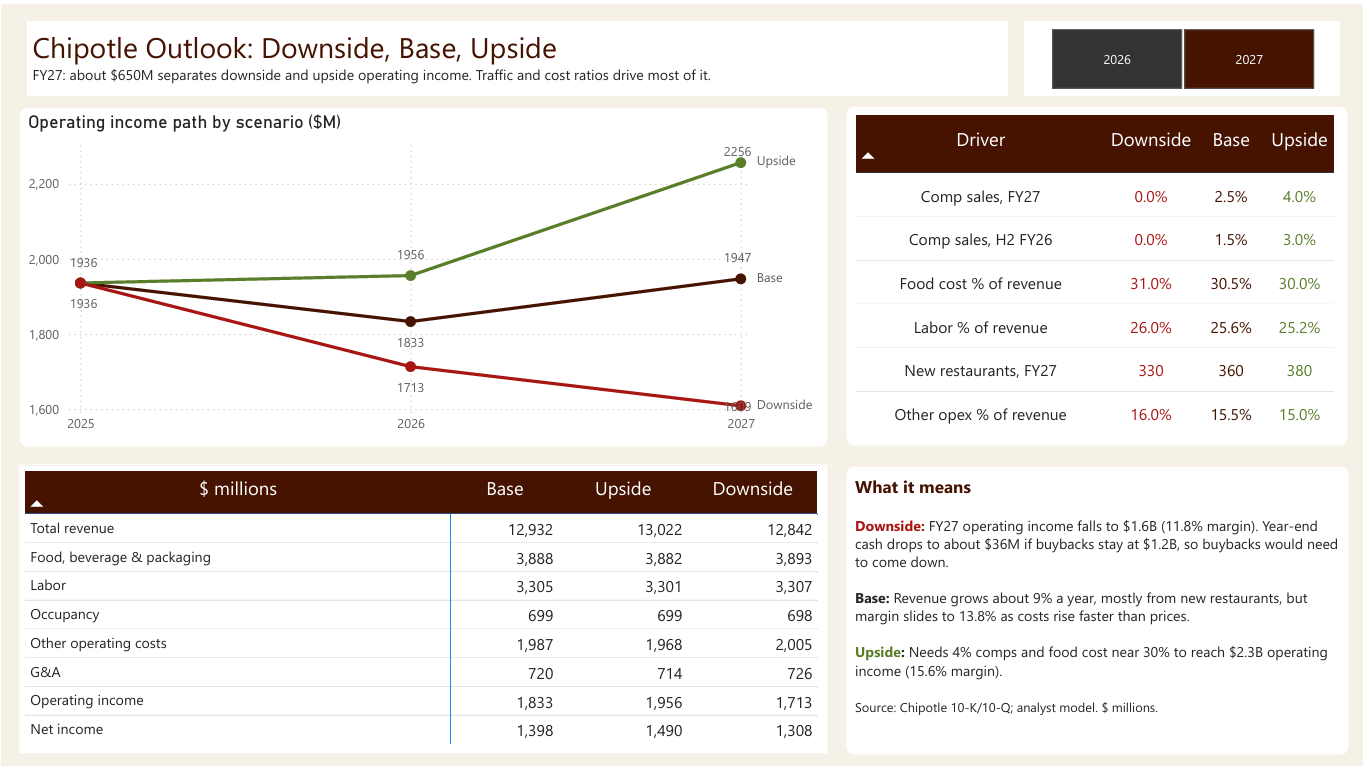

Layout of this report page (visuals, bound fields, positions):
{"tool":"powerbi","page":{"name":"Scenarios","canvas":[1280,720],"ordinal":2},"visuals":[{"type":"textbox","box":[24,16,920,70],"z":0},{"type":"slicer","fields":{"Values":["dim_year.Year"]},"box":[960,16,296,70],"z":1000},{"type":"lineChart","title":"Operating income path by scenario ($M)","fields":{"Category":["dim_year.Year"],"Y":["_Measures.OI Path"],"Series":["dim_scenario.Scenario"]},"box":[16,96,760,320],"z":2000},{"type":"tableEx","fields":{"Values":["scenario_drivers.Driver","scenario_drivers.Downside","scenario_drivers.Base","scenario_drivers.Upside"]},"box":[792.1,95.4,472,320],"z":3000},{"type":"pivotTable","fields":{"Rows":["dim_line.LineItem","dim_scenario.ScenarioOrder"],"Columns":["dim_scenario.Scenario"],"Values":["_Measures.Amount"]},"box":[16,432,760,272],"z":4000},{"type":"textbox","box":[792.1,432.6,472.4,272],"z":5000}]}

Visuals, with their boxes in screenshot pixels (x1, y1, x2, y2), scaled from the page's 1280x720 canvas onto the 1363x766 screenshot:
textbox: (x1=26, y1=17, x2=1005, y2=91)
slicer - dim_year.Year: (x1=1022, y1=17, x2=1337, y2=91)
"Operating income path by scenario ($M)" lineChart: (x1=17, y1=102, x2=826, y2=443)
tableEx - scenario_drivers.Driver x scenario_drivers.Downside: (x1=843, y1=101, x2=1346, y2=442)
pivotTable - dim_line.LineItem x dim_scenario.ScenarioOrder: (x1=17, y1=460, x2=826, y2=749)
textbox: (x1=843, y1=460, x2=1346, y2=750)
